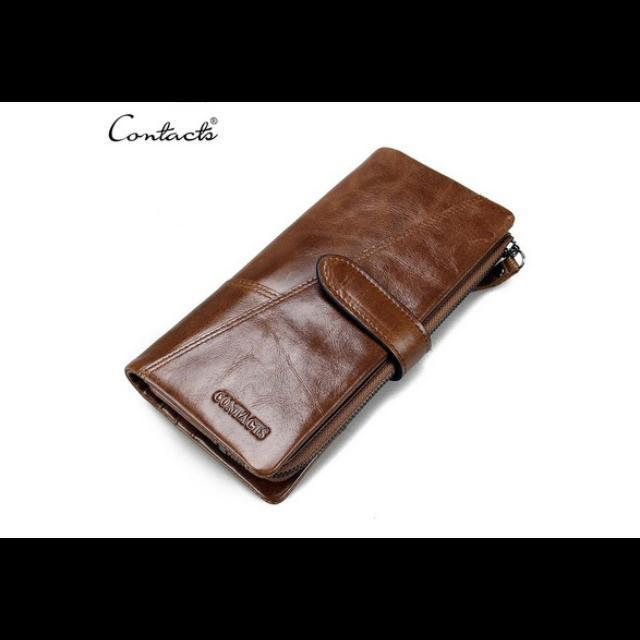wallet: (106, 149, 542, 479)
